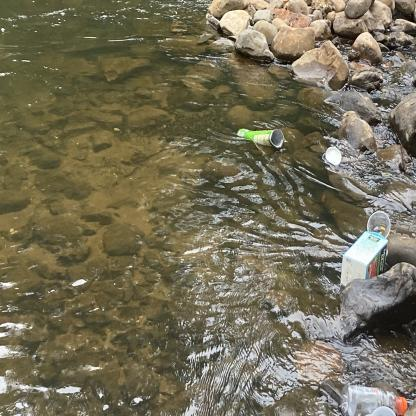trash: (337, 226, 393, 296), (337, 379, 411, 416), (234, 123, 290, 156), (363, 206, 395, 244), (317, 143, 346, 171), (366, 403, 399, 416)
